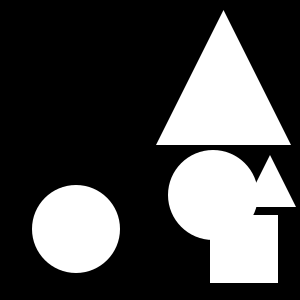circle: (210, 215, 278, 283)
rectangle: (168, 150, 258, 240), (32, 185, 120, 273)
triangle: (156, 10, 291, 145), (244, 155, 296, 207)
